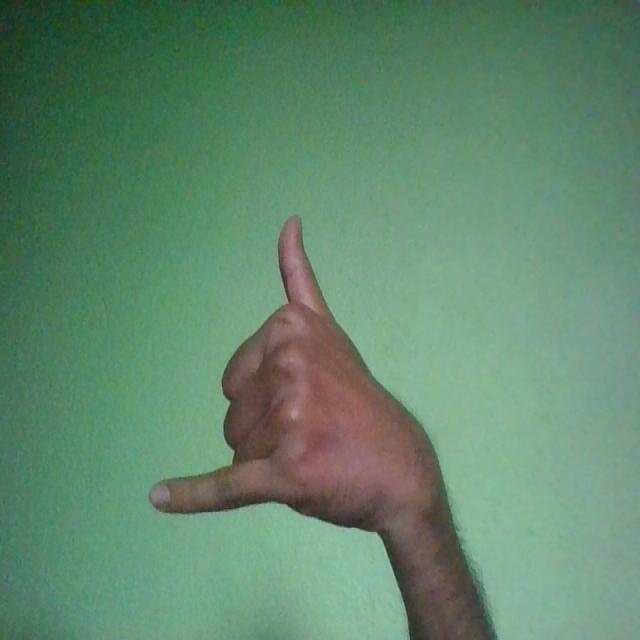Call Me: (148, 214, 447, 536)
